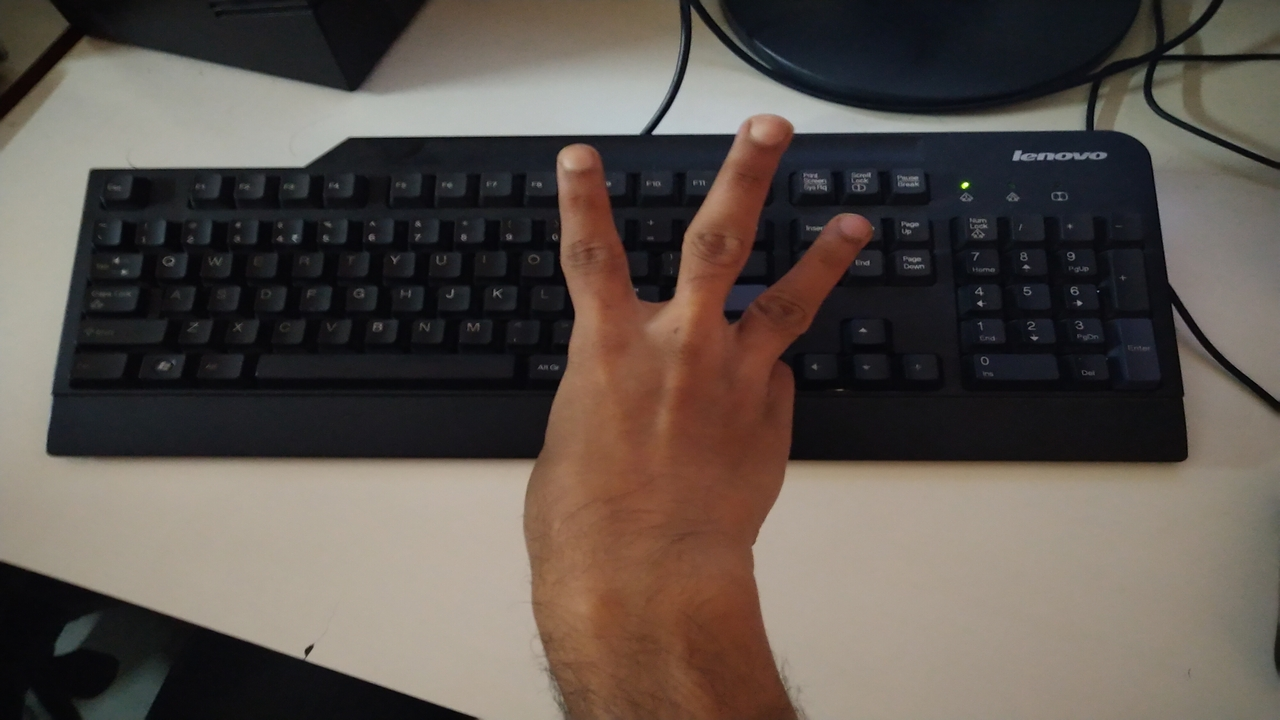fingertip: (732, 104, 802, 160), (814, 202, 882, 254), (548, 136, 608, 188)
